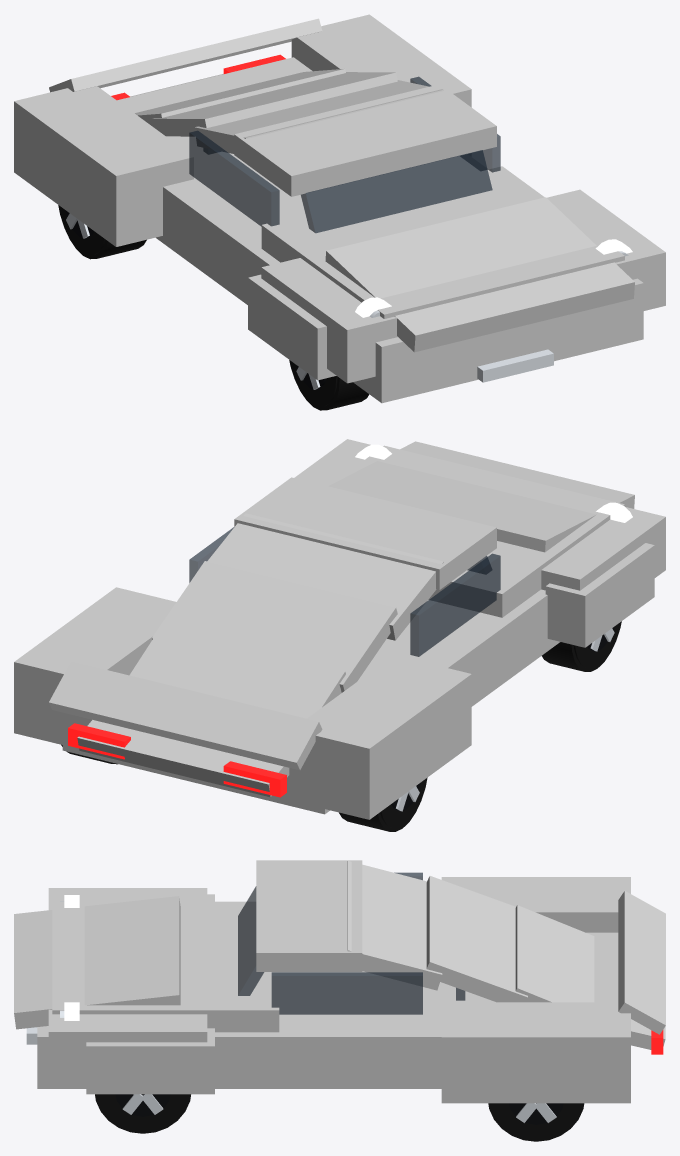
Rendered from porch-deathstalker.glb.
The picture shows the model from 3 angles, top to bottom: view 1: azimuth 30°, elevation 25°; view 2: azimuth 150°, elevation 25°; view 3: azimuth 270°, elevation 25°; orthographic projection. The views are drawn at different scales.
Visible parts, largest first — view 1: chassis, glass, wheel-front-left, wheel-back-left; view 2: chassis, wheel-front-left, wheel-back-left; view 3: chassis, wheel-front-right, wheel-back-right, glass.
Part boxes in pixels (box(x1,y1,x2,y2)): chassis: box(14, 14, 665, 403); glass: box(301, 150, 492, 232); wheel-front-left: box(289, 360, 369, 410); wheel-back-left: box(58, 205, 146, 259); chassis: box(14, 439, 665, 819); wheel-front-left: box(542, 621, 621, 671); wheel-back-left: box(339, 777, 427, 831); chassis: box(14, 860, 665, 1103); wheel-front-right: box(95, 1094, 190, 1133); wheel-back-right: box(488, 1103, 584, 1141); glass: box(238, 886, 263, 995).
Size of the model in its own units: 2.51 by 1.2 by 4.31.
